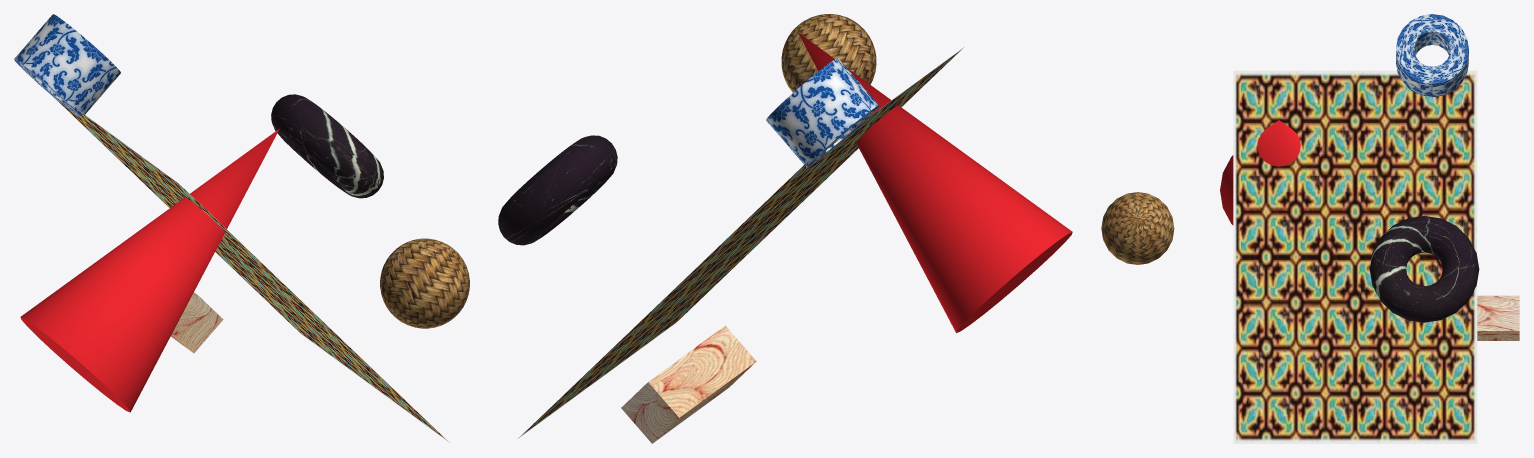
File: SinFT.dae
3 renders of one model, left to right at view 1: azimuth 30°, elevation 25°; view 2: azimuth 150°, elevation 25°; view 3: azimuth 270°, elevation 25°, orthographic. The views are drawn at different scales.
Visible parts, largest first — view 1: Cono, Plano, Esfera, Torus, Tuberia, Cubo; view 2: Cono, Plano, Cubo, Torus, Tuberia, Esfera; view 3: Plano, Torus, Tuberia, Esfera, Cono, Cubo.
Boxes of the visible parts, x1,y1,x2,y2 form: Cono: (20, 128, 279, 412); Plano: (46, 86, 449, 442); Esfera: (380, 238, 469, 328); Torus: (271, 94, 383, 198); Tuberia: (14, 14, 120, 117); Cubo: (170, 292, 223, 353); Cono: (798, 32, 1072, 332); Plano: (518, 47, 964, 438); Cubo: (621, 325, 756, 443); Torus: (498, 135, 617, 245); Tuberia: (766, 58, 878, 167); Esfera: (781, 14, 876, 92); Plano: (1233, 70, 1477, 443); Torus: (1369, 216, 1479, 322); Tuberia: (1396, 14, 1468, 97); Esfera: (1101, 192, 1174, 264); Cono: (1220, 120, 1300, 225); Cubo: (1477, 295, 1519, 340).
Size of the model in its own units: 10.97 by 9.79 by 11.44.
